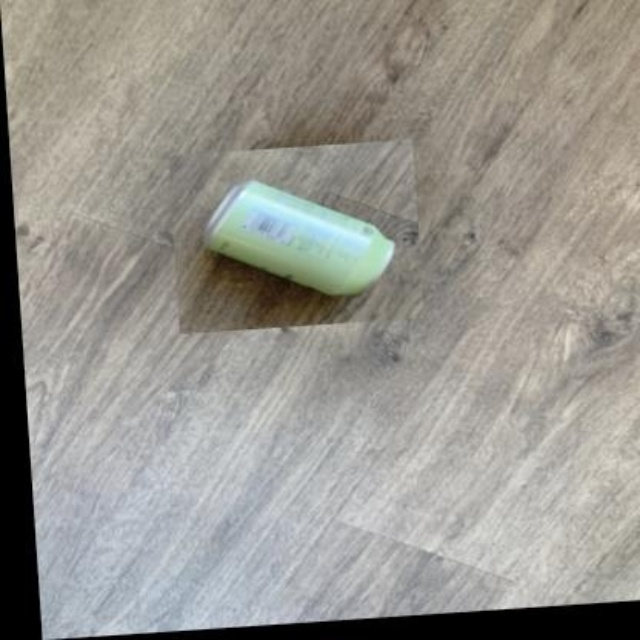trash: (205, 180, 392, 294)
